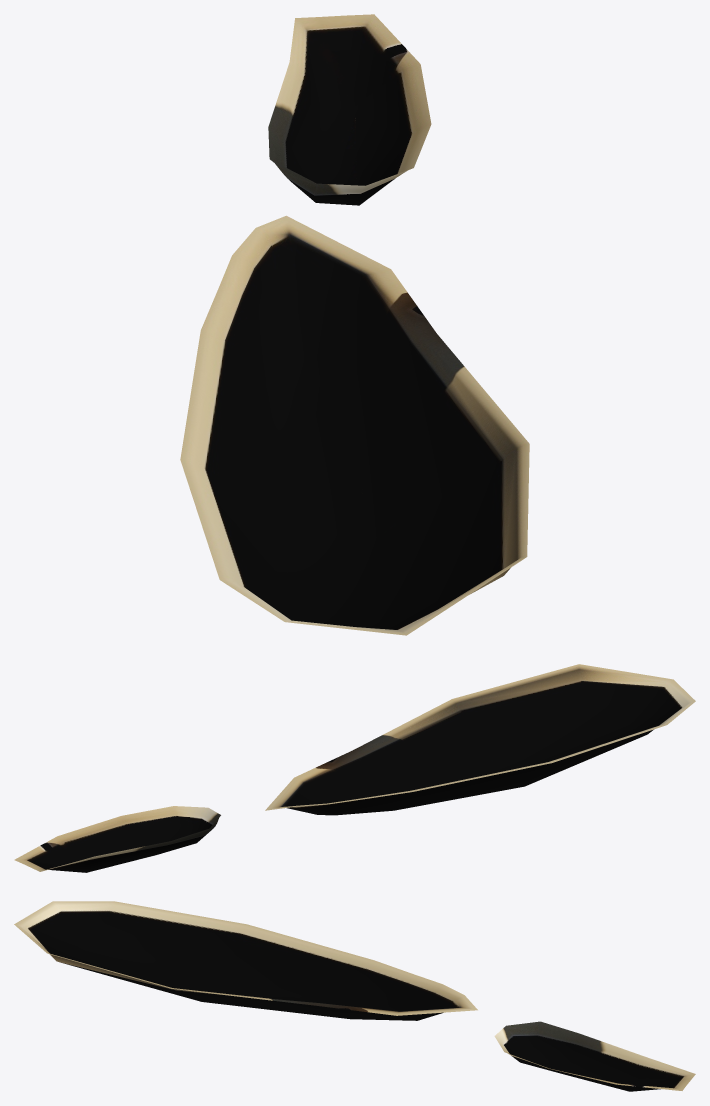
The model's file is Sand.fbx.
3 views of the same model, one above another, from view 1: azimuth 30°, elevation 25°; view 2: azimuth 150°, elevation 25°; view 3: azimuth 270°, elevation 25° (orthographic). The views are drawn at different scales.
Visible parts, largest first — view 1: Sand; view 2: Sand; view 3: Sand.
Boxes of the visible parts, bbox=[...] form: Sand: bbox=[180, 14, 529, 635]; Sand: bbox=[14, 664, 695, 872]; Sand: bbox=[14, 901, 695, 1091].
Bounding box in the file's own units: 38.44 × 4.82 × 62.77.
1 material, 1 textured.
